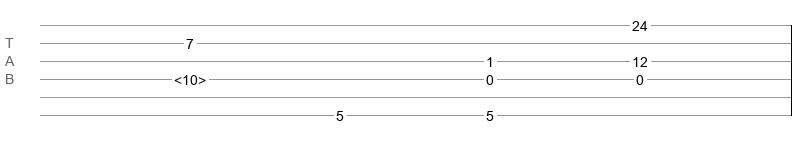0: (486, 72, 494, 82), (636, 72, 644, 82)
1: (486, 54, 494, 64)
12: (632, 54, 648, 64)
24: (632, 18, 648, 28)
5: (336, 108, 344, 118), (486, 108, 494, 118)
7: (186, 36, 194, 46)
harmonic: (174, 72, 206, 82)
